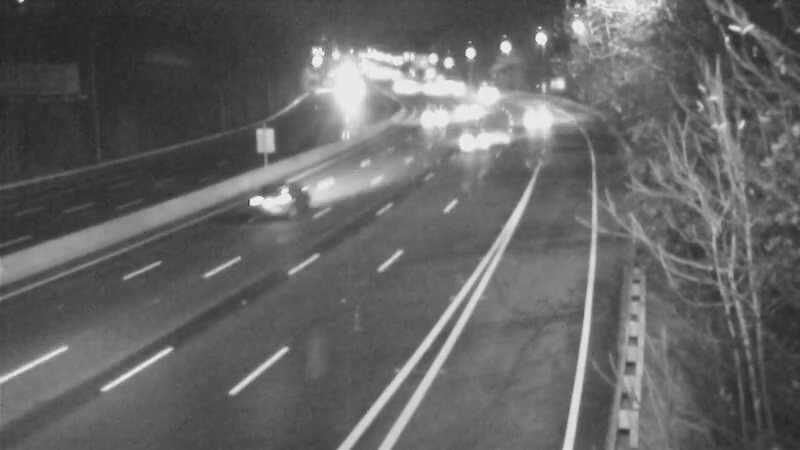vehicle: (232, 156, 312, 236), (422, 63, 472, 113), (444, 84, 494, 134), (509, 92, 559, 142), (405, 92, 455, 142), (446, 117, 496, 167)
